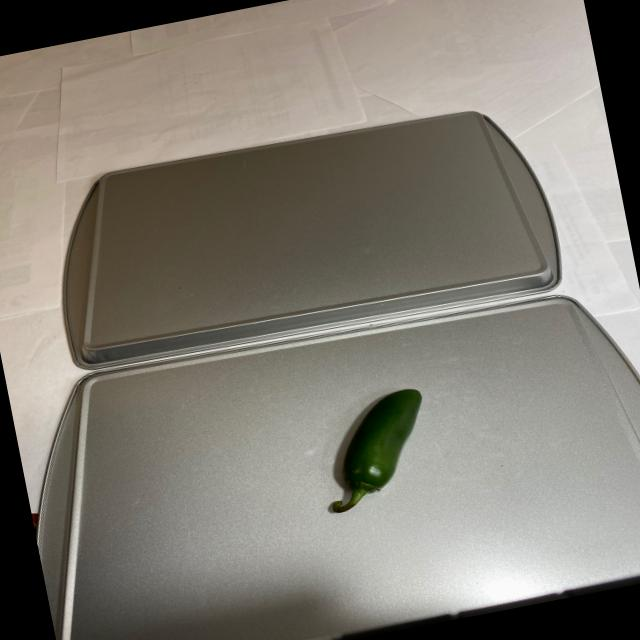chilli: (304, 384, 449, 526)
